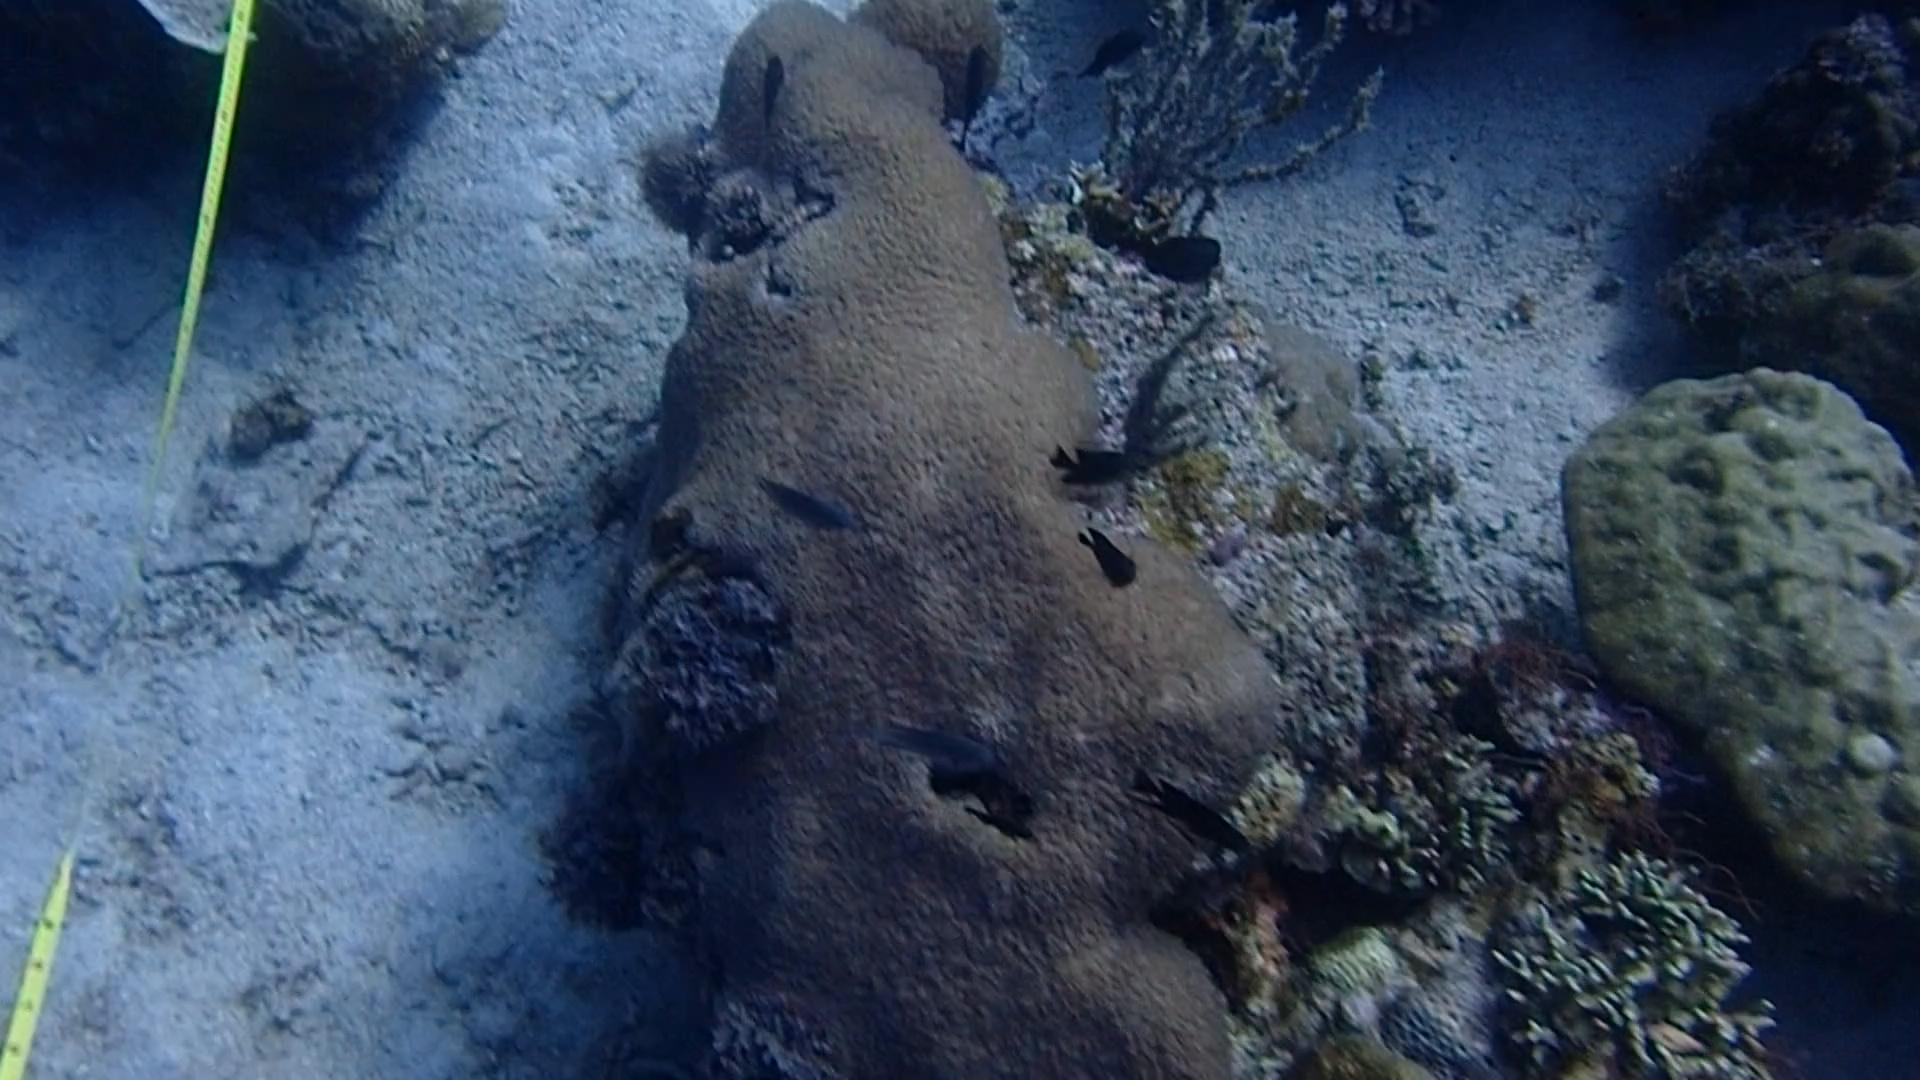Dark Fish: (1124, 760, 1270, 860), (1067, 518, 1153, 608), (1035, 429, 1131, 497), (1072, 12, 1151, 88), (741, 36, 802, 135), (947, 34, 1004, 137)
Light Fish: (865, 709, 997, 793), (757, 459, 862, 550)
